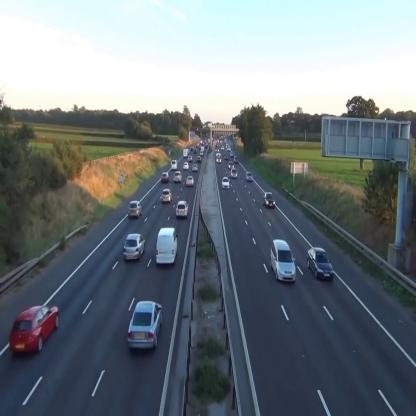car: (10, 304, 59, 354), (128, 299, 162, 348), (270, 239, 296, 283), (307, 248, 334, 281), (124, 233, 146, 262), (128, 200, 142, 219), (176, 200, 189, 218), (263, 192, 275, 207), (162, 189, 172, 203), (174, 170, 182, 182), (161, 172, 170, 182), (186, 176, 194, 187), (222, 177, 230, 188), (171, 160, 177, 170), (231, 168, 237, 178), (228, 162, 234, 169), (247, 172, 252, 180), (216, 157, 222, 163), (183, 161, 188, 168), (192, 164, 197, 171), (183, 150, 188, 156), (188, 155, 192, 161), (197, 156, 200, 161)
lorry: (156, 227, 178, 266)
